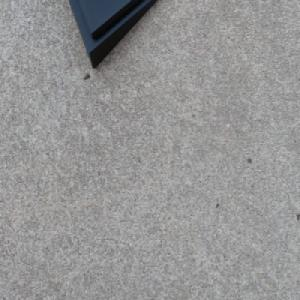PlasticPart: (65, 0, 160, 72)
